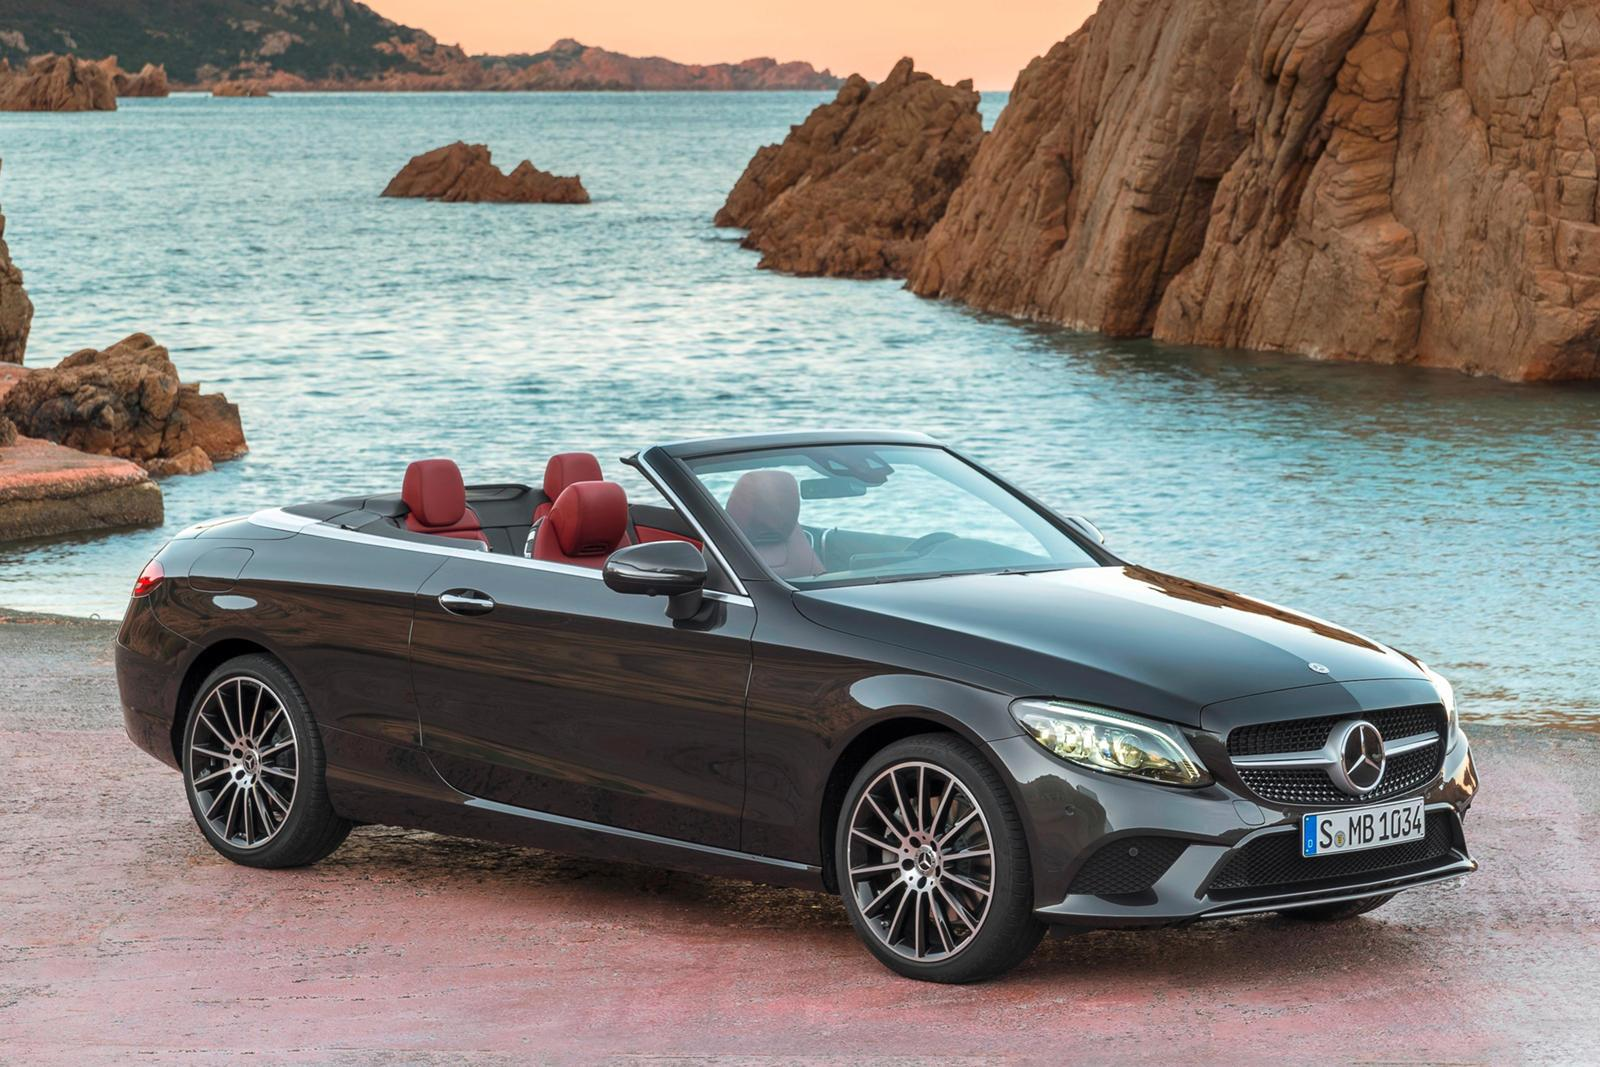car: (118, 416, 1479, 992)
